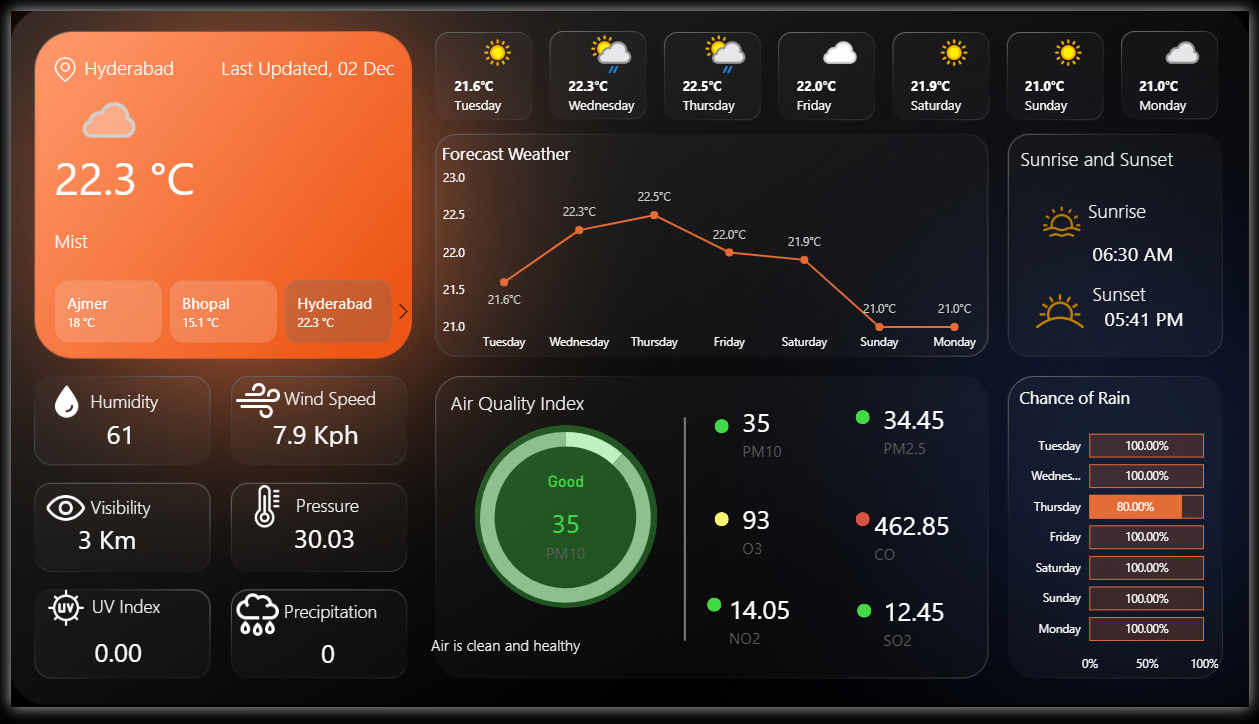

The dashboard page shown, as its layout file describes it:
{"tool":"powerbi","page":{"name":"Page 1","canvas":[1280,720],"ordinal":0},"visuals":[{"type":"donutChart","fields":{"Y":["Sum(Current.current.air_quality.pm10)","_Measures.Left_Value_pm10"]},"box":[458,408.2,230.7,230.7],"z":0},{"type":"shape","box":[479.6,428.1,189.2,189.2],"z":1000},{"type":"advancedSlicerVisual","fields":{"Values":["Locations.location.name"]},"box":[20.2,273,401.7,76],"z":2000},{"type":"shape","box":[45.5,134.7,271,72.4],"z":3000},{"type":"shape","box":[45.5,202,343.4,70.7],"z":4000},{"type":"shape","box":[75.8,32,112.8,52.2],"z":5000},{"type":"shape","box":[205.4,23.6,191.9,70.7],"z":6000},{"type":"image","box":[43.8,35.4,25.3,48.8],"z":7000},{"type":"cardVisual","fields":{"Data":["Min(Current.current.condition.icon)"]},"box":[45.5,23.6,112.8,131.3],"z":8000},{"type":"image","box":[37,385.5,40.4,35.4],"z":9000},{"type":"image","box":[28.6,489.9,57.2,47.1],"z":10000},{"type":"image","box":[230.6,378.8,48.8,48.8],"z":11000},{"type":"image","box":[28.2,597.4,58.1,39.8],"z":12000},{"type":"image","box":[218.9,597.6,72.4,53.9],"z":13000},{"type":"image","box":[230.6,489.9,67.3,43.8],"z":14000},{"type":"shape","box":[82.5,380.5,84.2,45.5],"z":15000},{"type":"shape","box":[82.5,488.2,85.9,47.1],"z":16000},{"type":"shape","box":[83,590.8,84.6,48.1],"z":17000},{"type":"shape","box":[282.8,377.1,107.7,45.5],"z":18000},{"type":"shape","box":[294.6,486.5,85.9,47.1],"z":19000},{"type":"shape","box":[282.8,597.6,114.5,45.5],"z":20000},{"type":"cardVisual","fields":{"Data":["Sum(Current.current.humidity)"]},"box":[69,404,99.3,64],"z":21000},{"type":"cardVisual","fields":{"Data":["_Measures.Wind_Speed"]},"box":[242.4,404,166.7,64],"z":22000},{"type":"cardVisual","fields":{"Data":["Sum(Current.current.pressure_in)"]},"box":[264.3,511.8,124.6,62.3],"z":23000},{"type":"cardVisual","fields":{"Data":["_Measures.Visibility"]},"box":[40.4,513.5,143.1,62.3],"z":24000},{"type":"cardVisual","fields":{"Data":["Sum(Current.current.uv)"]},"box":[57.2,629.6,124.6,62.3],"z":25000},{"type":"cardVisual","fields":{"Data":["Sum(Current.current.precip_in)"]},"box":[291.2,631.3,79.1,62.3],"z":26000},{"type":"advancedSlicerVisual","fields":{"Values":["Forcast_Day.Day_Name"]},"box":[441.1,11.8,838.4,111.1],"z":27000},{"type":"lineChart","title":"Forecast Weather","fields":{"Y":["Sum(Forcast_Day.forecast.forecastday.day.avgtemp_c)"],"Category":["Forcast_Day.Day_Name"]},"box":[441.1,134.7,570.7,225.6],"z":28000},{"type":"shape","box":[1043.8,131.3,218.9,40.4],"z":29000},{"type":"shape","box":[1117.8,227.3,92.6,45.5],"z":30000},{"type":"shape","box":[1131.3,291.2,92.6,52.2],"z":31000},{"type":"shape","box":[1112.8,186.9,80.8,40.4],"z":32000},{"type":"shape","box":[1117.8,271,57.2,40.4],"z":33000},{"type":"image","box":[1037,277.8,94.3,65.7],"z":34000},{"type":"image","box":[1043.8,198.6,85.9,38.7],"z":35000},{"type":"hundredPercentStackedBarChart","title":"Chance of Rain","fields":{"Category":["Forcast_Day.Day_Name"],"Y":["Sum(Forcast_Day.forecast.forecastday.day.daily_chance_of_rain)","_Measures.Chance_of_Rain"]},"box":[1037.5,387.7,215.6,305.5],"z":36000},{"type":"shape","box":[454.4,384.6,150.4,40.3],"z":37000},{"type":"cardVisual","fields":{"Data":["Sum(Current.current.air_quality.pm10)"]},"box":[726.8,391.6,99.6,88],"z":38000},{"type":"cardVisual","fields":{"Data":["Sum(Current.current.air_quality.co)"]},"box":[864.6,499.5,147.7,88],"z":39000},{"type":"cardVisual","fields":{"Data":["Sum(Current.current.air_quality.pm2_5)"]},"box":[872.9,388.3,139.4,91.3],"z":40000},{"type":"cardVisual","fields":{"Data":["Sum(Current.current.air_quality.so2)"]},"box":[872.9,587.5,139.4,88],"z":41000},{"type":"cardVisual","fields":{"Data":["Sum(Current.current.air_quality.o3)"]},"box":[726.8,492.9,99.6,88],"z":42000},{"type":"cardVisual","fields":{"Data":["Sum(Current.current.air_quality.no2)"]},"box":[713.6,585.8,146,88],"z":43000},{"type":"shape","box":[726.8,421.5,14.9,14.9],"z":44000},{"type":"shape","box":[726.8,517.8,14.9,14.9],"z":45000},{"type":"shape","box":[720.2,605.7,14.9,14.9],"z":46000},{"type":"shape","box":[874.5,612.3,14.9,14.9],"z":47000},{"type":"shape","box":[872.9,517.8,14.9,14.9],"z":48000},{"type":"shape","box":[872.9,413.2,14.9,14.9],"z":49000},{"type":"shape","box":[678.7,419.8,34.8,230.7],"z":50000},{"type":"cardVisual","fields":{"Data":["Sum(Current.current.air_quality.pm10)"]},"box":[516.1,476.3,114.5,109.5],"z":51000},{"type":"shape","box":[434.8,633.9,278.8,41.5],"z":52000}]}

Visuals, with their boxes in screenshot pixels (x1, y1, x2, y2), scaled from the page's 1280x720 canvas onto the 1259x724 screenshot:
donutChart - Sum(Current.current.air_quality.pm10) x _Measures.Left_Value_pm10: [x1=450, y1=410, x2=677, y2=642]
shape: [x1=472, y1=430, x2=658, y2=621]
advancedSlicerVisual - Locations.location.name: [x1=20, y1=275, x2=415, y2=351]
shape: [x1=45, y1=135, x2=311, y2=208]
shape: [x1=45, y1=203, x2=383, y2=274]
shape: [x1=75, y1=32, x2=186, y2=85]
shape: [x1=202, y1=24, x2=391, y2=95]
image: [x1=43, y1=36, x2=68, y2=85]
cardVisual - Min(Current.current.condition.icon): [x1=45, y1=24, x2=156, y2=156]
image: [x1=36, y1=388, x2=76, y2=423]
image: [x1=28, y1=493, x2=84, y2=540]
image: [x1=227, y1=381, x2=275, y2=430]
image: [x1=28, y1=601, x2=85, y2=641]
image: [x1=215, y1=601, x2=287, y2=655]
image: [x1=227, y1=493, x2=293, y2=537]
shape: [x1=81, y1=383, x2=164, y2=428]
shape: [x1=81, y1=491, x2=166, y2=538]
shape: [x1=82, y1=594, x2=165, y2=642]
shape: [x1=278, y1=379, x2=384, y2=425]
shape: [x1=290, y1=489, x2=374, y2=537]
shape: [x1=278, y1=601, x2=391, y2=647]
cardVisual - Sum(Current.current.humidity): [x1=68, y1=406, x2=166, y2=471]
cardVisual - _Measures.Wind_Speed: [x1=238, y1=406, x2=402, y2=471]
cardVisual - Sum(Current.current.pressure_in): [x1=260, y1=515, x2=383, y2=577]
cardVisual - _Measures.Visibility: [x1=40, y1=516, x2=180, y2=579]
cardVisual - Sum(Current.current.uv): [x1=56, y1=633, x2=179, y2=696]
cardVisual - Sum(Current.current.precip_in): [x1=286, y1=635, x2=364, y2=697]
advancedSlicerVisual - Forcast_Day.Day_Name: [x1=434, y1=12, x2=1258, y2=124]
"Forecast Weather" lineChart: [x1=434, y1=135, x2=995, y2=362]
shape: [x1=1027, y1=132, x2=1242, y2=173]
shape: [x1=1099, y1=229, x2=1191, y2=274]
shape: [x1=1113, y1=293, x2=1204, y2=345]
shape: [x1=1095, y1=188, x2=1174, y2=229]
shape: [x1=1099, y1=273, x2=1156, y2=313]
image: [x1=1020, y1=279, x2=1113, y2=345]
image: [x1=1027, y1=200, x2=1111, y2=239]
"Chance of Rain" hundredPercentStackedBarChart: [x1=1020, y1=390, x2=1233, y2=697]
shape: [x1=447, y1=387, x2=595, y2=427]
cardVisual - Sum(Current.current.air_quality.pm10): [x1=715, y1=394, x2=813, y2=482]
cardVisual - Sum(Current.current.air_quality.co): [x1=850, y1=502, x2=996, y2=591]
cardVisual - Sum(Current.current.air_quality.pm2_5): [x1=859, y1=390, x2=996, y2=482]
cardVisual - Sum(Current.current.air_quality.so2): [x1=859, y1=591, x2=996, y2=679]
cardVisual - Sum(Current.current.air_quality.o3): [x1=715, y1=496, x2=813, y2=584]
cardVisual - Sum(Current.current.air_quality.no2): [x1=702, y1=589, x2=845, y2=678]
shape: [x1=715, y1=424, x2=730, y2=439]
shape: [x1=715, y1=521, x2=730, y2=536]
shape: [x1=708, y1=609, x2=723, y2=624]
shape: [x1=860, y1=616, x2=875, y2=631]
shape: [x1=859, y1=521, x2=873, y2=536]
shape: [x1=859, y1=415, x2=873, y2=430]
shape: [x1=668, y1=422, x2=702, y2=654]
cardVisual - Sum(Current.current.air_quality.pm10): [x1=508, y1=479, x2=620, y2=589]
shape: [x1=428, y1=637, x2=702, y2=679]
